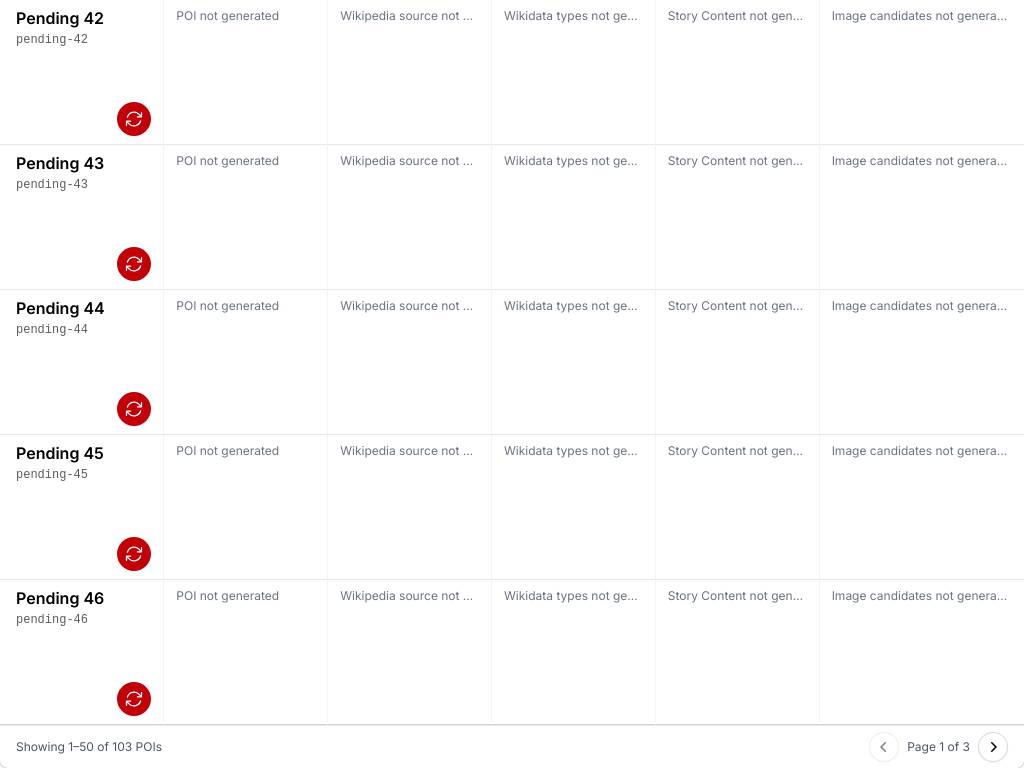
Test: POI actions › handles POI pagination across pages
(page scrolled)
Check: the text "Showing 1–50 of 103 POIs" is shown, box [16,739,162,755]
Check: the button named "Previous page" is disabled, box [869,732,899,762]
Click the button named "Next page" at (993, 747), box [978,732,1008,762]
(page scrolled)
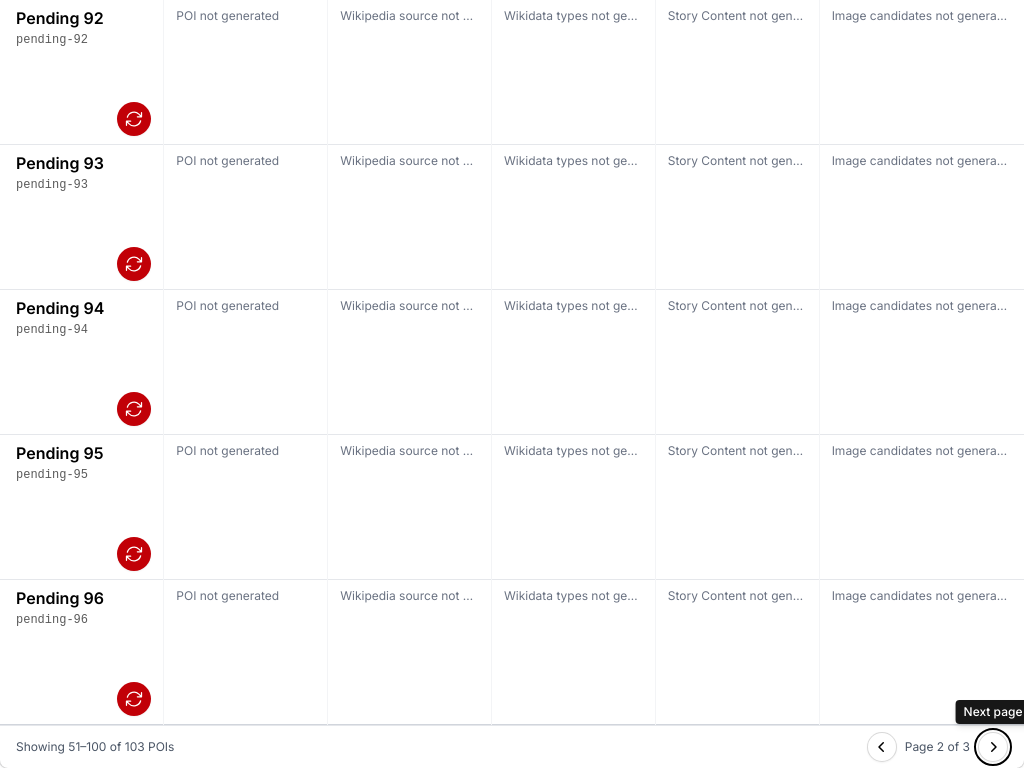
Check: the text "Showing 51–100 of 103 POIs" is shown, box [16,739,174,755]
Click the button named "Next page" at (993, 747), box [978,732,1008,762]
(page scrolled)
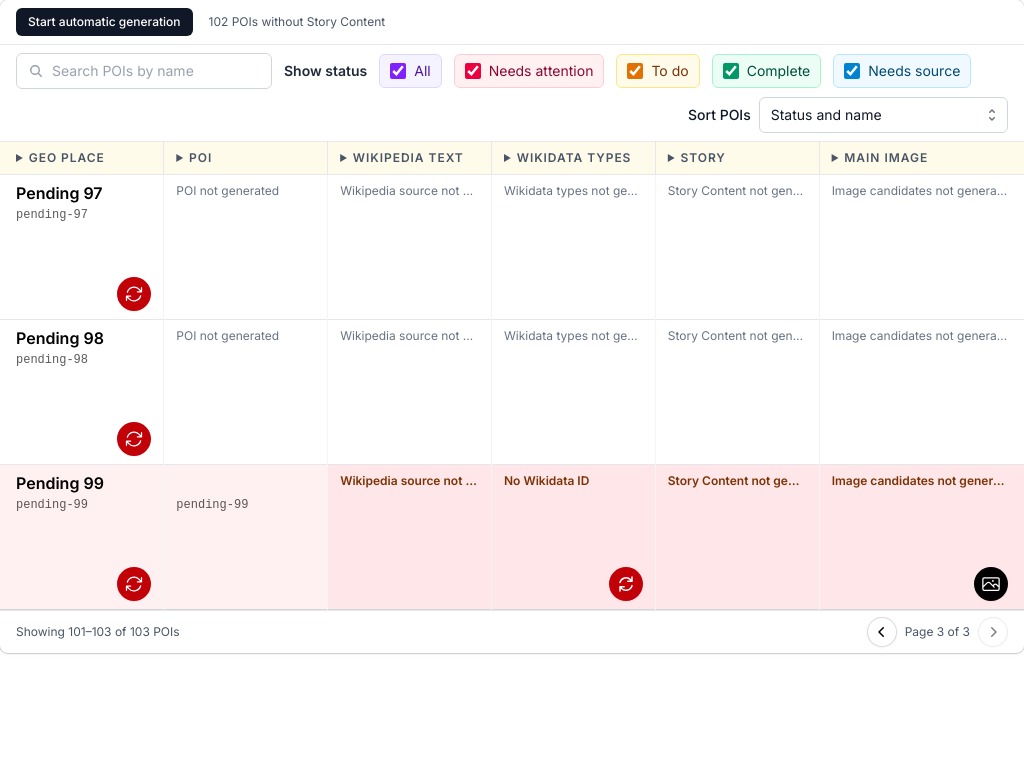
Check: the button named "Next page" is disabled, box [978,617,1008,647]
Check: the text "Showing 101–103 of 103 POIs" is shown, box [16,624,180,640]
Check: the text "Pending 99" is shown, box [16,473,104,493]
Click the button named "Previous page" at (882, 632), box [867,617,897,647]
(page scrolled)
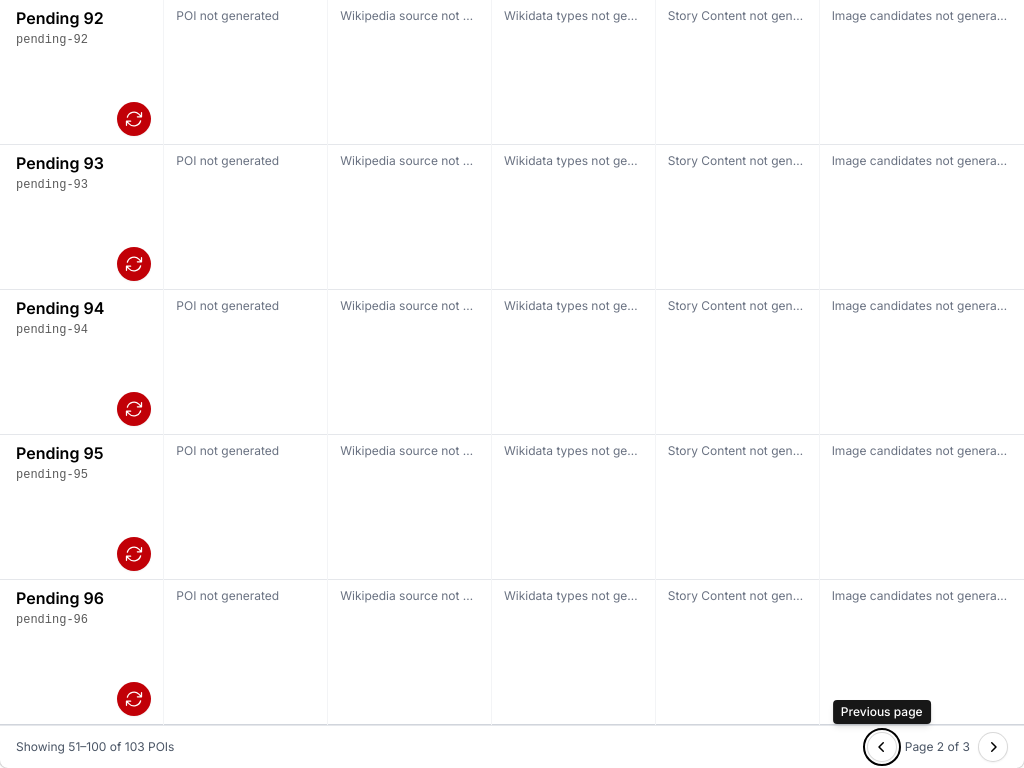
Check: the text "Showing 51–100 of 103 POIs" is shown, box [16,739,174,755]
